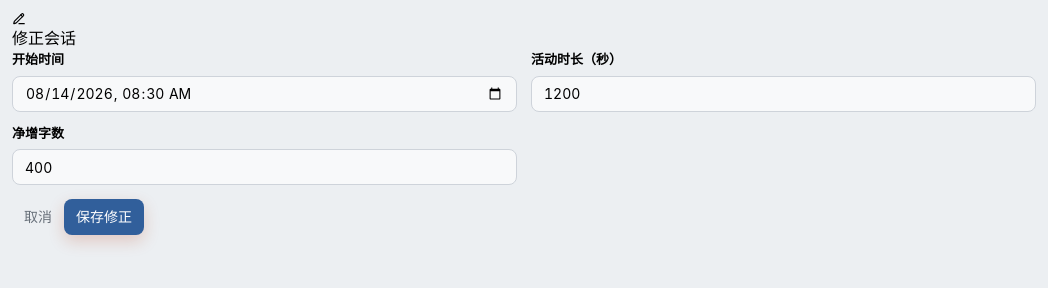
Test: SessionEditForm 会话修正 › 非法时长被阻止提交并逐项提示
Replace the text in the number field labelled "活动时长（秒）" with "90000" at {"x": 784, "y": 94}, box [531,76,1036,112]
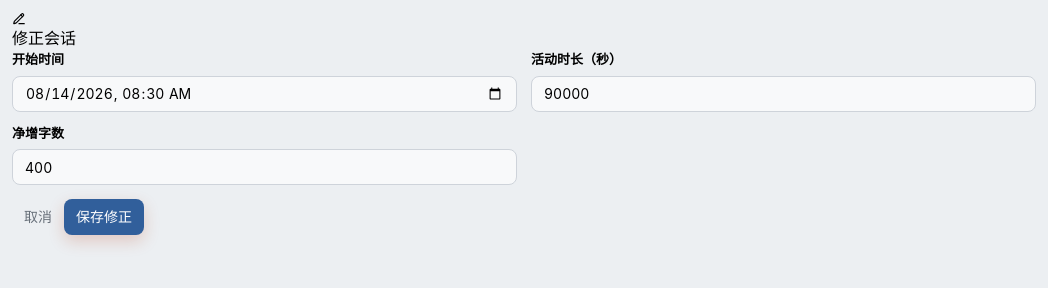
Click the button "保存修正" at {"x": 104, "y": 217}, box [64,199,144,235]
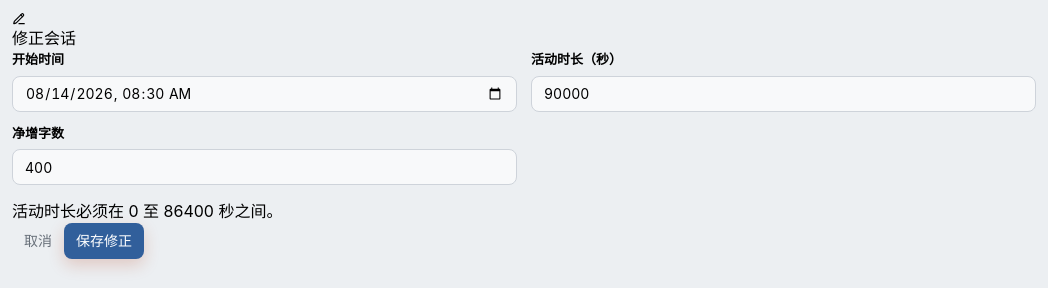
Expected: the message shows "0 至 86400 秒", [12,201,282,221]
